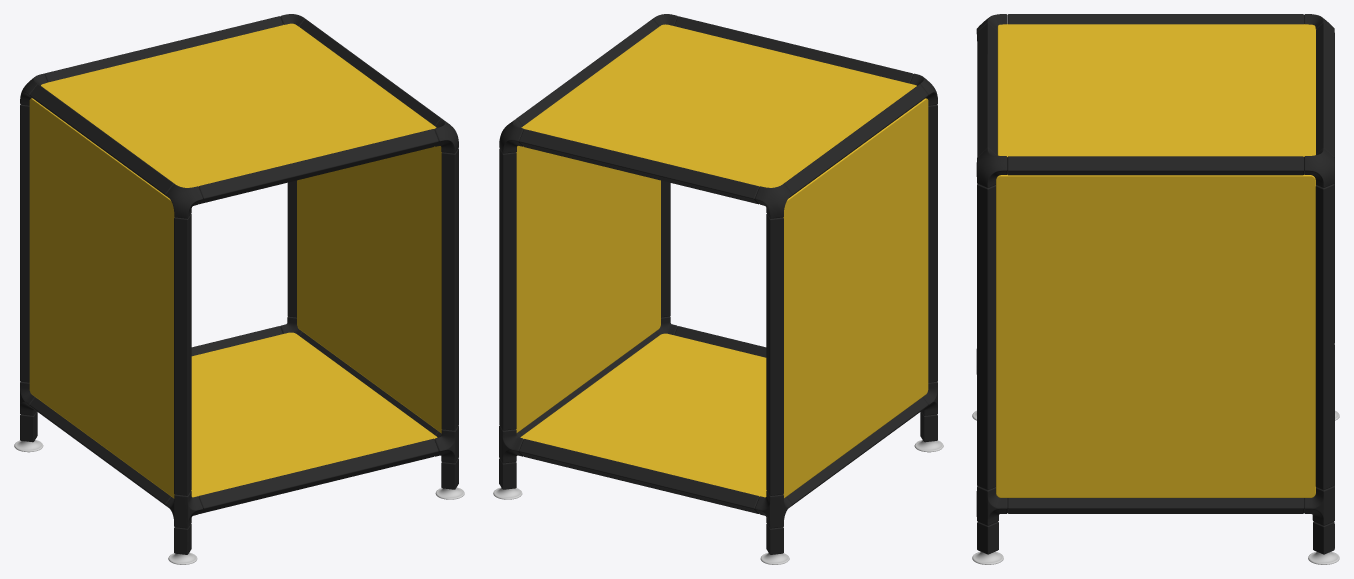
The picture shows the model from 3 angles, left to right: view 1: azimuth 30°, elevation 25°; view 2: azimuth 150°, elevation 25°; view 3: azimuth 270°, elevation 25°; orthographic projection. The views are drawn at different scales.
Visible parts, largest first — view 1: 374x374x420; view 2: 374x374x420; view 3: 374x374x420.
Part boxes in pixels (bbox=[...]): 374x374x420: bbox=[14, 14, 464, 564]; 374x374x420: bbox=[493, 14, 943, 564]; 374x374x420: bbox=[972, 14, 1339, 564].
Size of the model in its own units: 0.4639 by 0.5593 by 0.4632.
